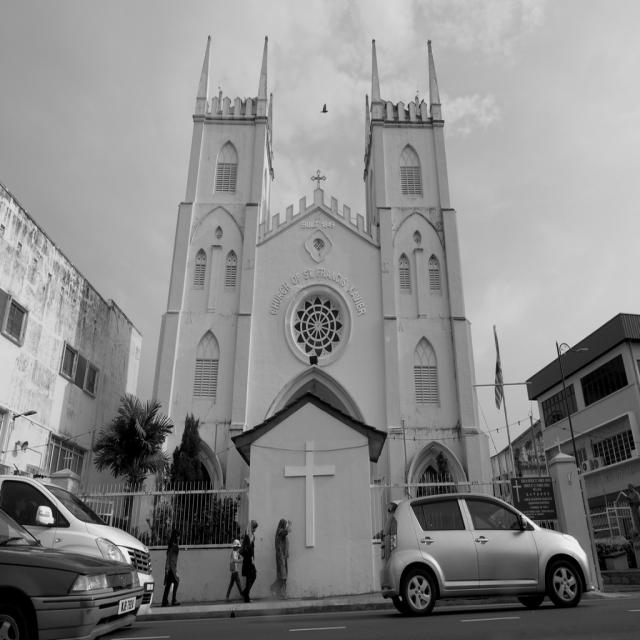car: (378, 484, 594, 605)
